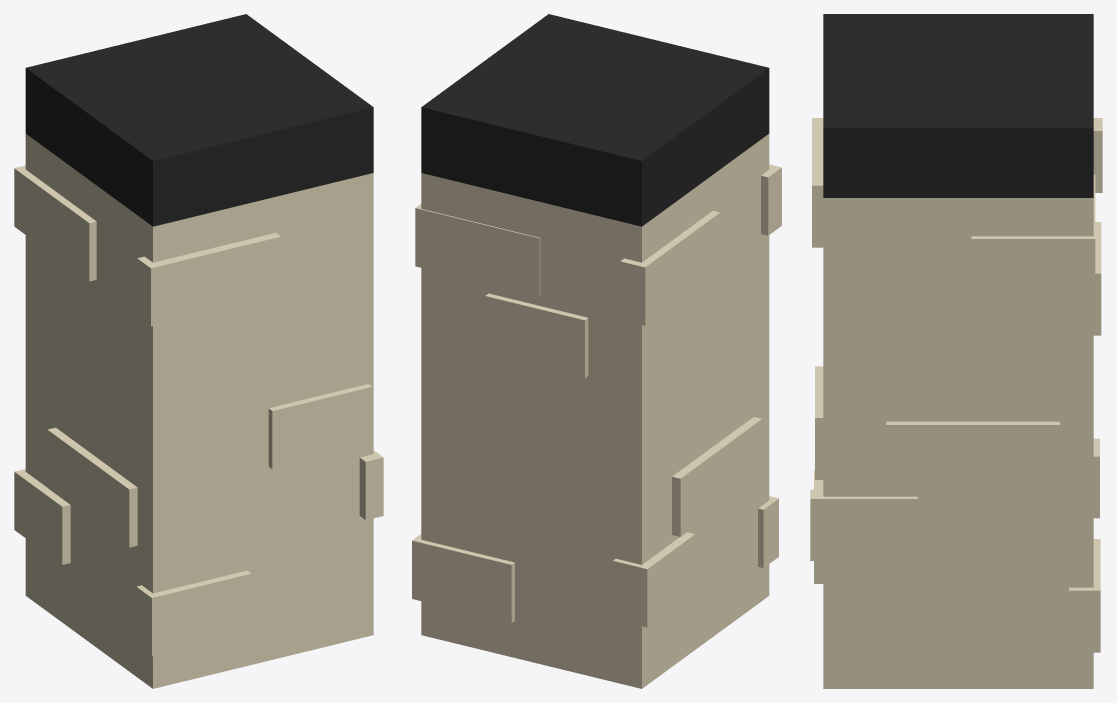
Rendered from wall_brick.glb.
The picture shows the model from 3 angles, left to right: view 1: azimuth 30°, elevation 25°; view 2: azimuth 150°, elevation 25°; view 3: azimuth 270°, elevation 25°; orthographic projection. The views are drawn at different scales.
Visible parts, largest first — view 1: wall_brick; view 2: wall_brick; view 3: wall_brick.
Boxes of the visible parts, x1,y1,x2,y2 form: wall_brick: (14, 14, 383, 688); wall_brick: (412, 14, 781, 688); wall_brick: (810, 14, 1102, 688).
Bounding box in the file's own units: 1.07 × 2.29 × 1.08.
